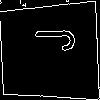J: (25, 26, 76, 53)
